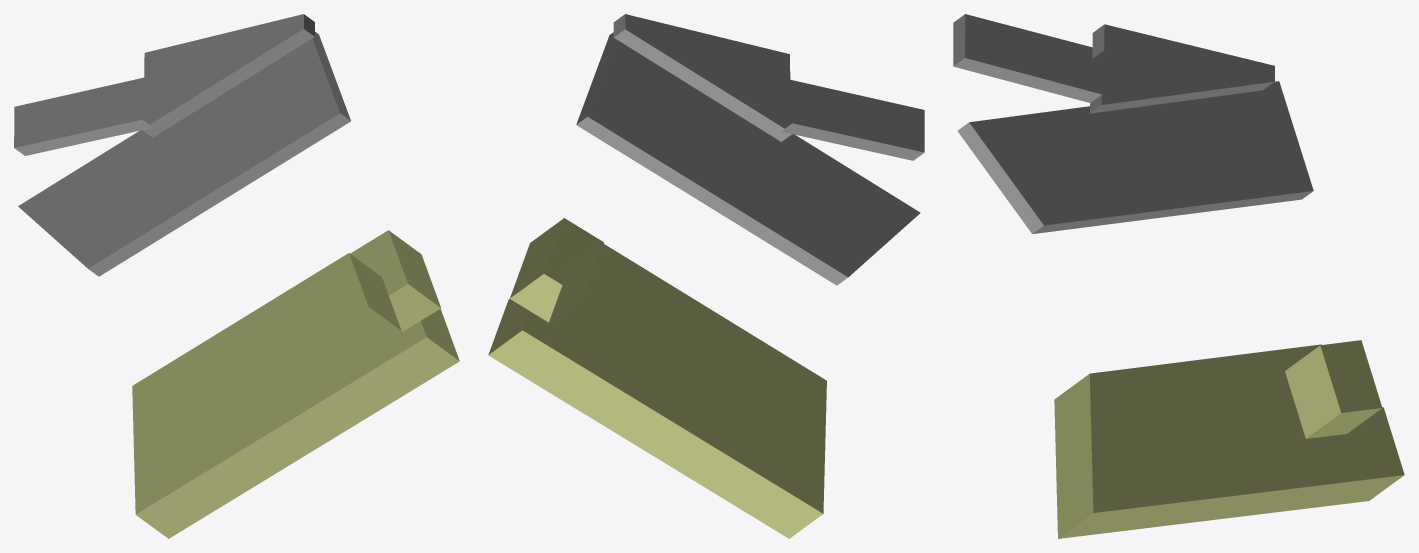
3 renders of one model, left to right at view 1: azimuth 30°, elevation 25°; view 2: azimuth 150°, elevation 25°; view 3: azimuth 330°, elevation 25°, orthographic. The views are drawn at different scales.
Visible parts, largest first — view 1: 0_1_1_3_3_0_0_0; view 2: 0_1_1_3_3_0_0_0; view 3: 0_1_1_3_3_0_0_0.
Boxes of the visible parts, x1,y1,x2,y2 form: 0_1_1_3_3_0_0_0: (14, 14, 459, 538); 0_1_1_3_3_0_0_0: (488, 14, 924, 538); 0_1_1_3_3_0_0_0: (953, 14, 1404, 538).
Size of the model in its own units: 64.61 by 68.8 by 9.5.
